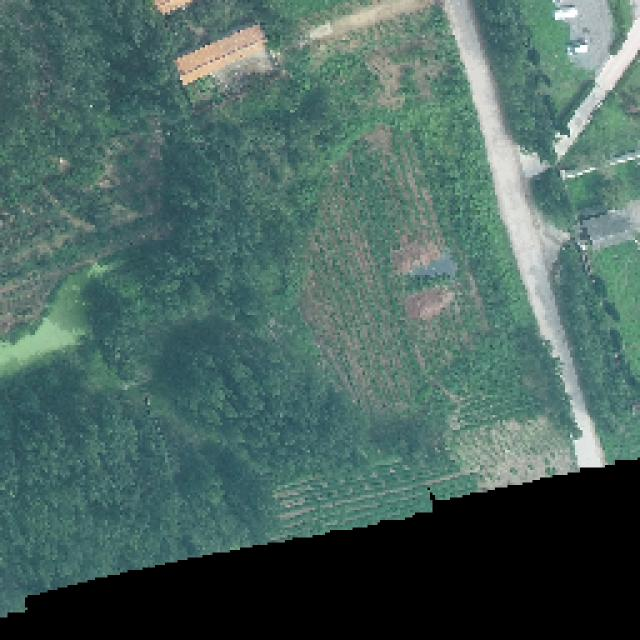Batiment: (178, 26, 264, 84)
